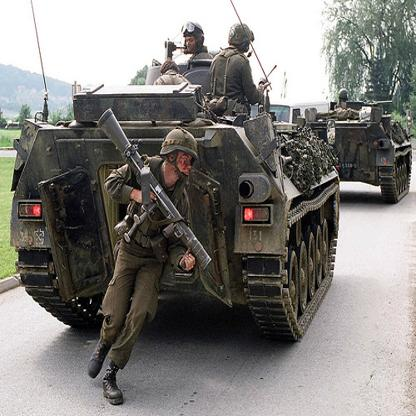Tank: (13, 65, 345, 361)
